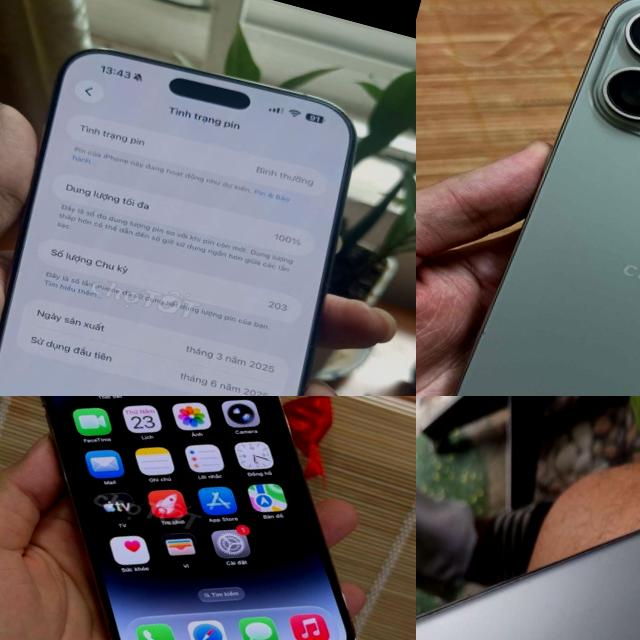gen_11: (416, 528, 640, 640)
gen_14: (0, 396, 416, 640)
gen_15: (416, 0, 640, 396)
gen_16: (0, 49, 354, 396)
